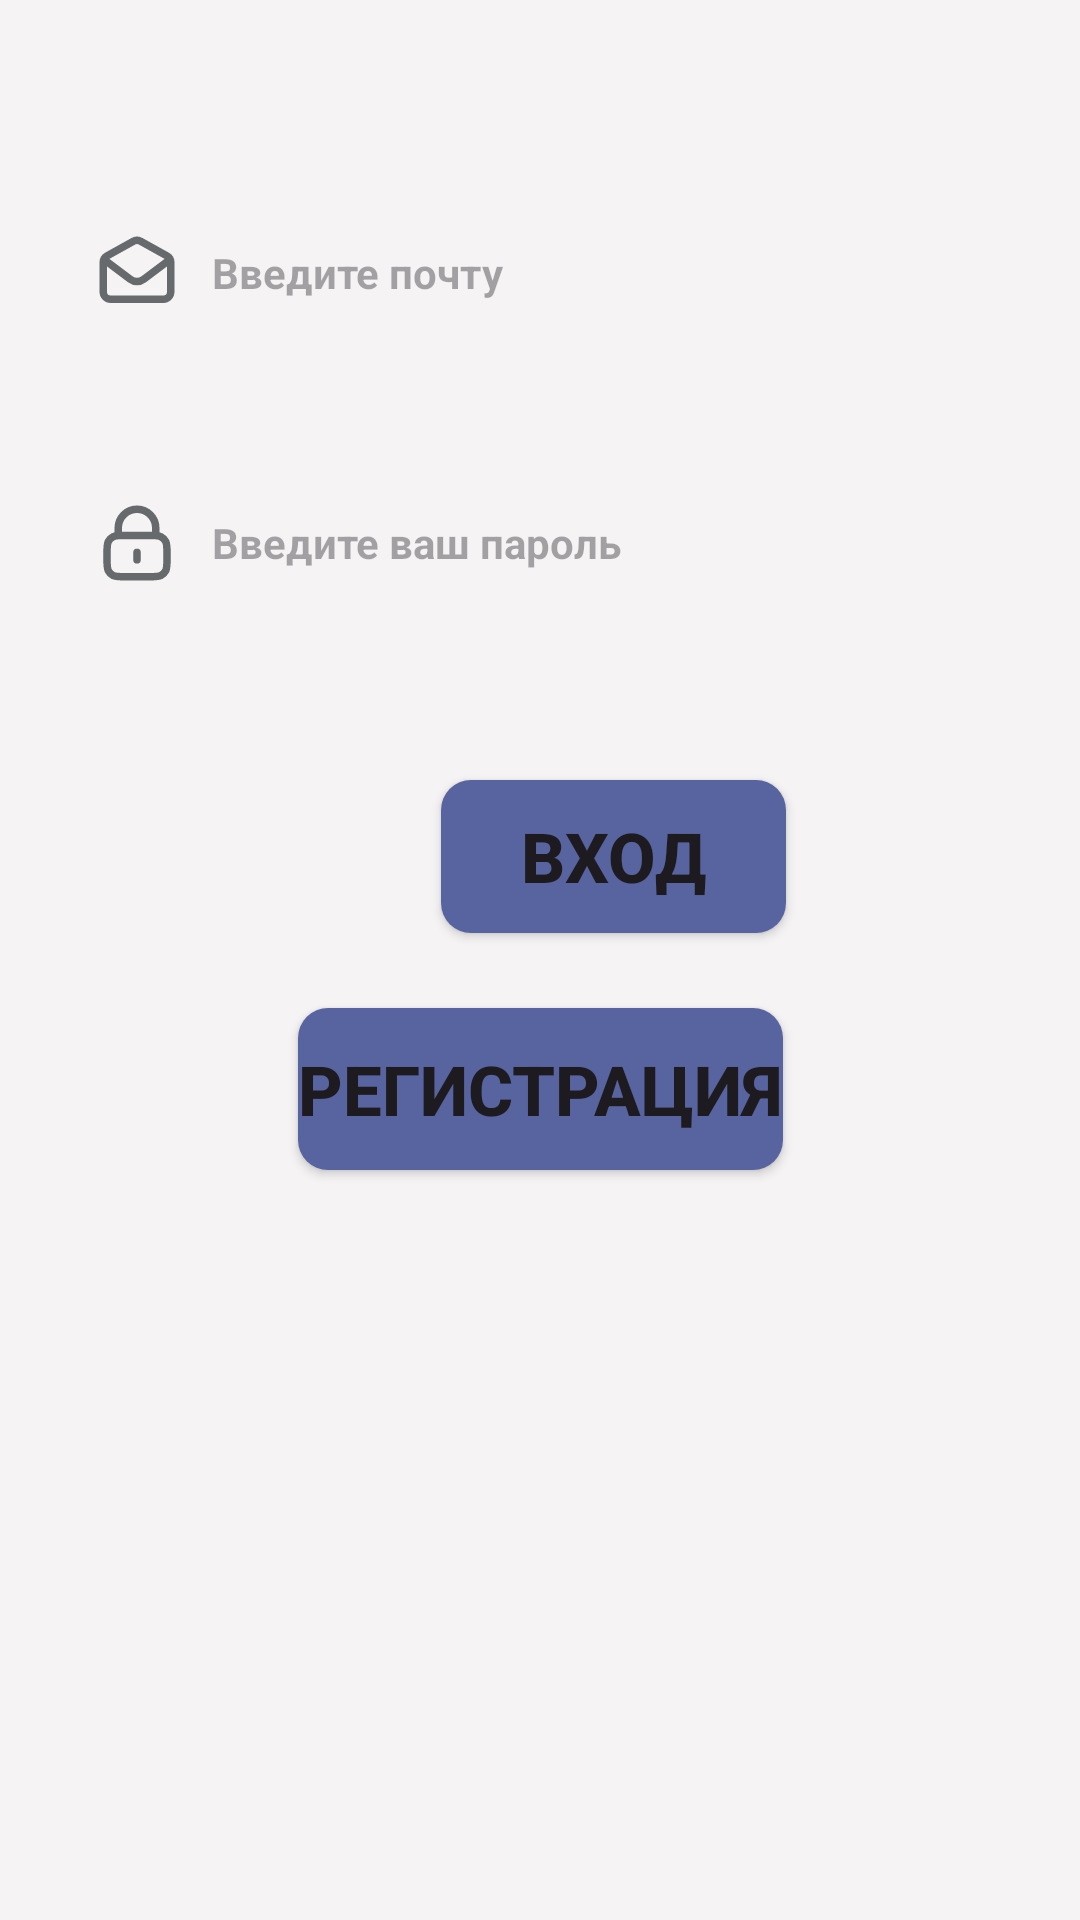

Screen size 1080px x 1920px. Icon name, then its box in pixels as region(x1, y1, x2, y2):
email: region(99, 236, 175, 303)
password: region(103, 505, 171, 581)
